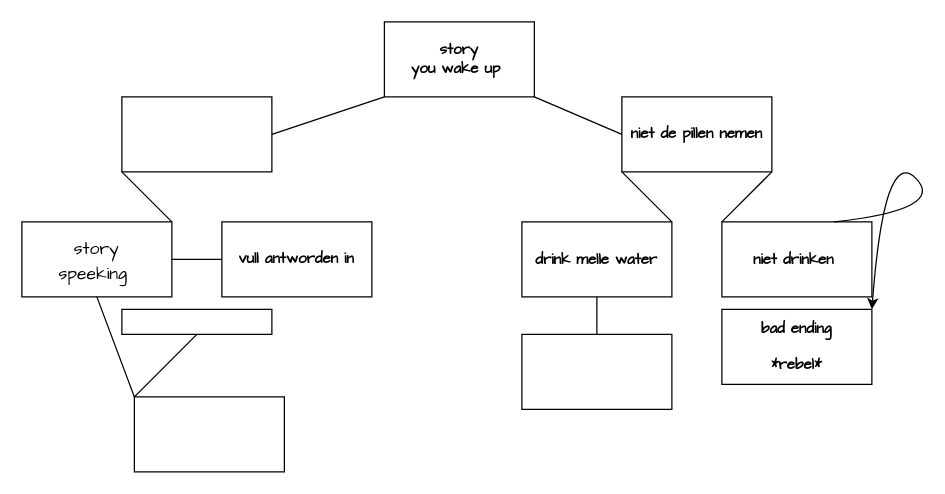
This 945x494 diagram has some shape labels left out. Each missing label, with the centre of its shape:
"neem de pillen" goes at point 196,134.
"nep antworden in vullen" goes at point 596,371.
"sleep" goes at point 196,321.
